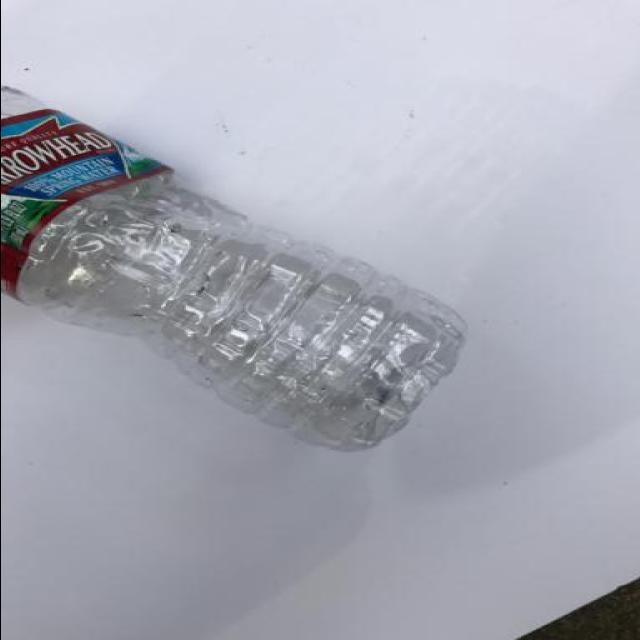litter: (2, 81, 476, 458)
